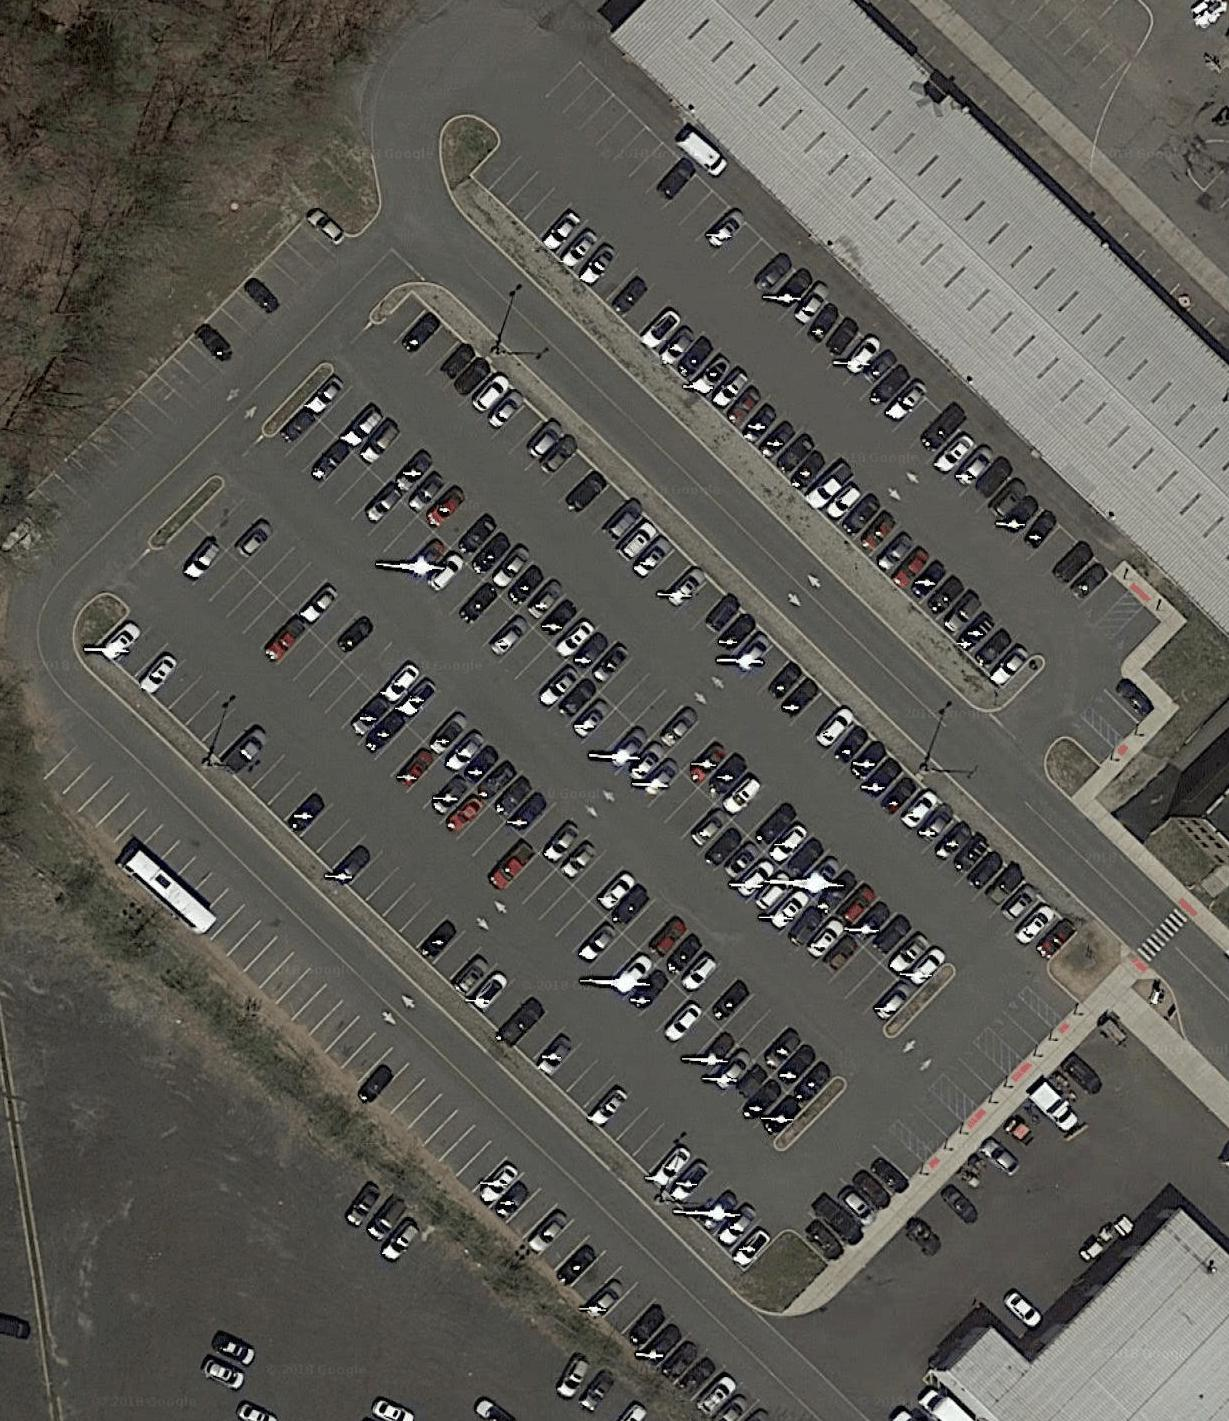parkingspot: (41, 738, 785, 1420), (372, 289, 1079, 971), (95, 605, 785, 1274), (153, 516, 808, 1149), (191, 480, 842, 1113), (302, 367, 953, 998), (265, 404, 916, 1033), (543, 60, 1132, 630), (469, 139, 1040, 692), (23, 207, 356, 544), (895, 1046, 1108, 1260), (787, 1126, 926, 1266), (999, 0, 1134, 92), (984, 991, 1057, 1065), (895, 1084, 969, 1158), (939, 1038, 1011, 1110), (1086, 671, 1156, 741), (1024, 965, 1083, 1023), (1105, 604, 1163, 661), (1063, 712, 1118, 768)
